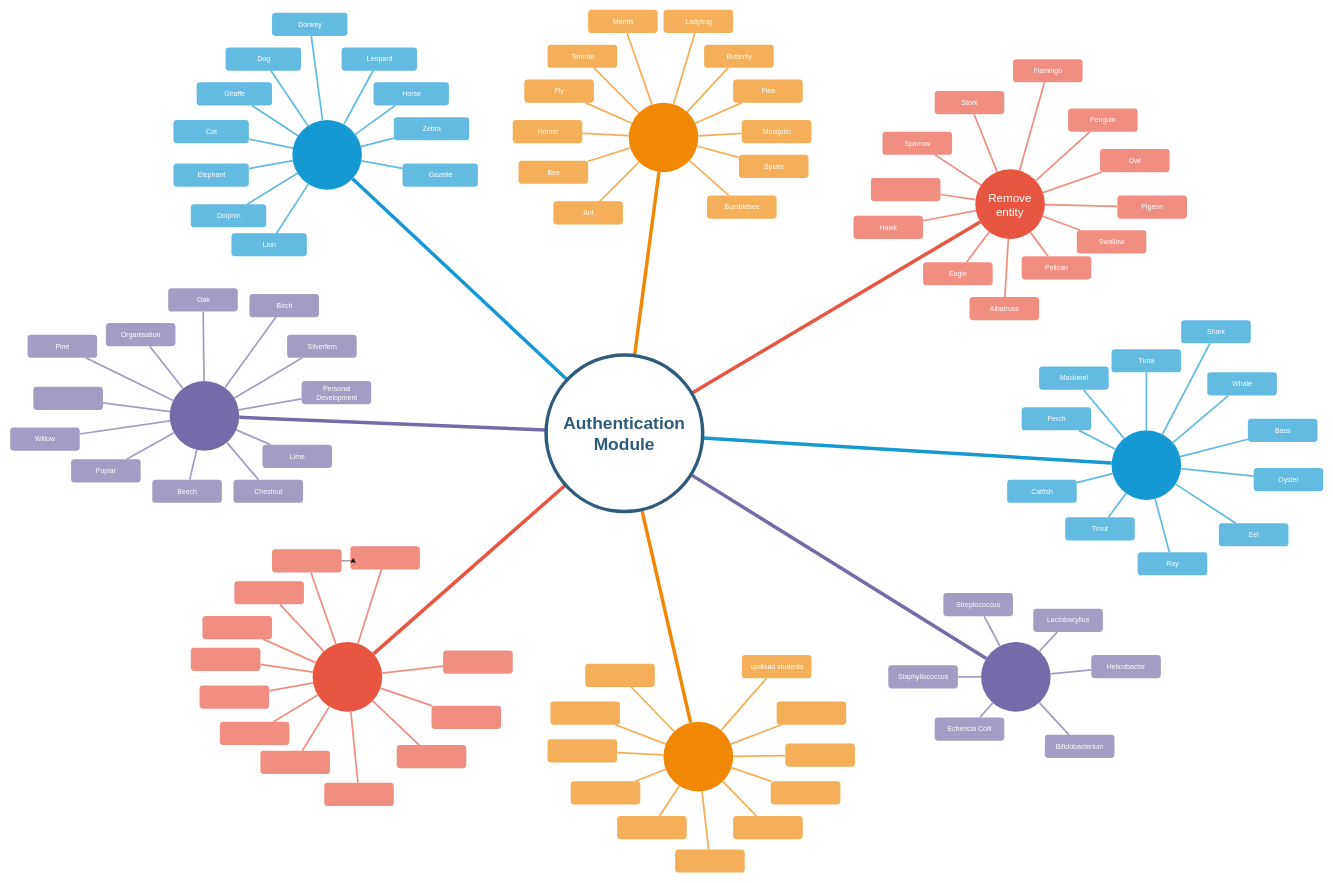
Some shapes in this 1333 by 883 pixel diagram are drawn without their labels. The shapes that lost their labels are listed below. From the top down, each one's centre as x and y in pixels, then its label:
At pixel 327 154: "Role Configuration".
At pixel 663 137: "Authorisation".
At pixel 905 189: "Falcon".
At pixel 68 398: "Acacia".
At pixel 1146 465: "Reset Password".
At pixel 347 676: "Backlog".
At pixel 1015 676: "Login".
At pixel 698 756: "Registration".
